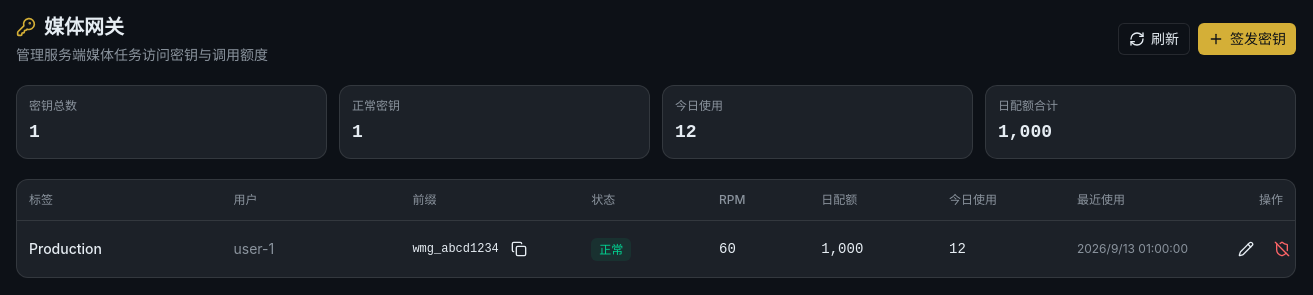
Test: MediaGatewayAdmin › never renders a full secret in the list and exposes a copy tooltip for the prefix
Expected: the text "Production" is shown, [17,220,222,277]
Focus the button named "复制前缀". click: (519, 249)
box: [503,233,535,265]
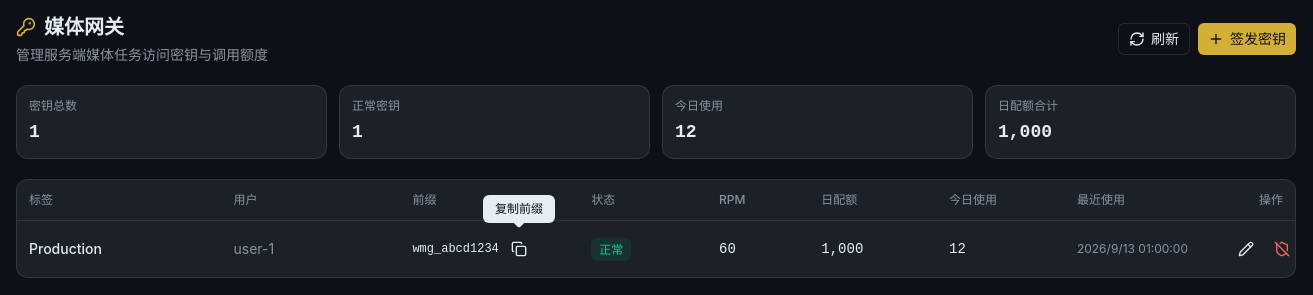
Now the tooltip reads "复制前缀", box [495,201,543,216]
